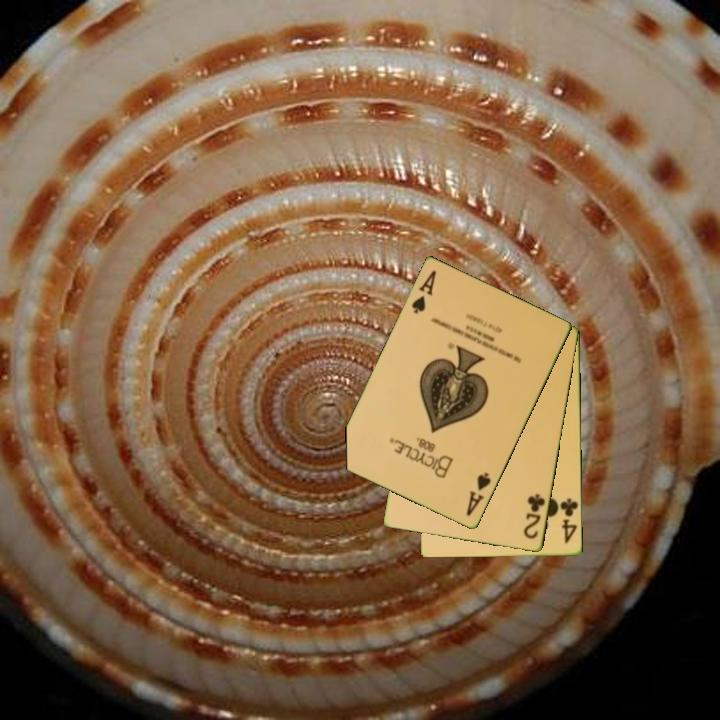2c: (520, 490, 548, 542)
4c: (555, 495, 580, 546)
As: (463, 469, 494, 519), (408, 267, 439, 317)
